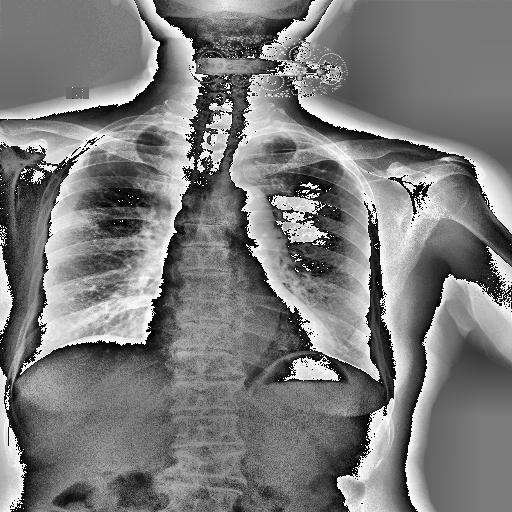0- Aortic enlargement: (162, 184, 274, 267), (218, 185, 276, 235), (230, 184, 272, 230)
11- Pleural thickening: (300, 132, 340, 161)
3- Cardiomegaly: (143, 306, 334, 357), (141, 314, 333, 356)
7- Lung Opacity: (88, 145, 108, 170)
9- Other lesion: (88, 145, 108, 170)
